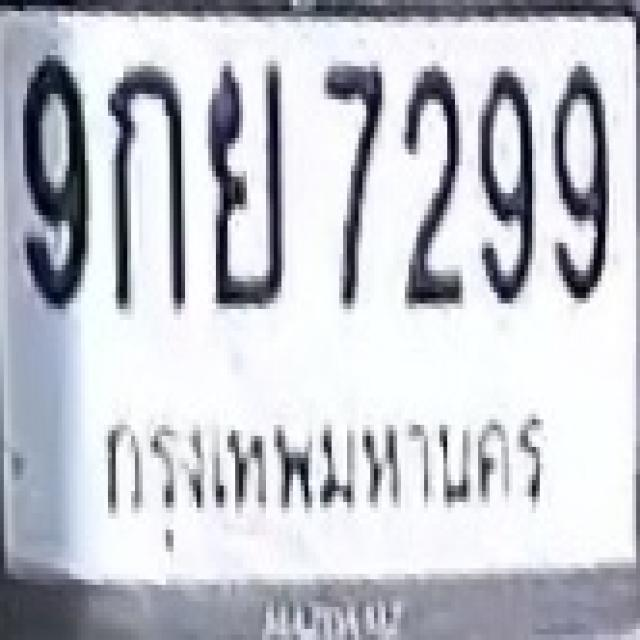-: (204, 60, 286, 304), (106, 61, 183, 309)
2: (401, 60, 463, 304)
7: (320, 60, 386, 304), (322, 61, 384, 270)
9: (19, 52, 89, 306), (476, 64, 534, 306), (551, 61, 609, 298)
BKK: (80, 382, 557, 556)
